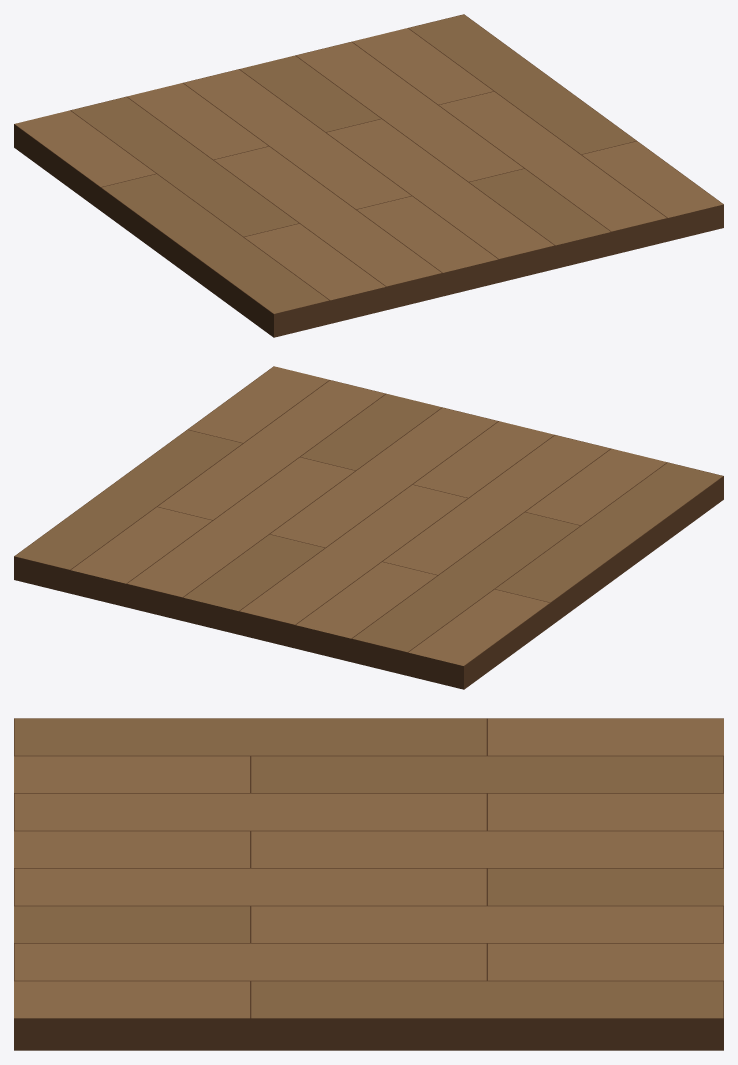
The model's file is floor.glb.
3 views of the same model, one above another, from view 1: azimuth 30°, elevation 25°; view 2: azimuth 150°, elevation 25°; view 3: azimuth 270°, elevation 25° (orthographic). The views are drawn at different scales.
Parts seen in each view (by area): view 1: Floor; view 2: Floor; view 3: Floor.
Part boxes in pixels (box(x1,y1,x2,y2)): Floor: box(14, 14, 723, 337); Floor: box(14, 366, 723, 689); Floor: box(14, 718, 723, 1050).
Bounding box in the file's own units: 1 × 0.05 × 1.
1 material, 1 textured.
